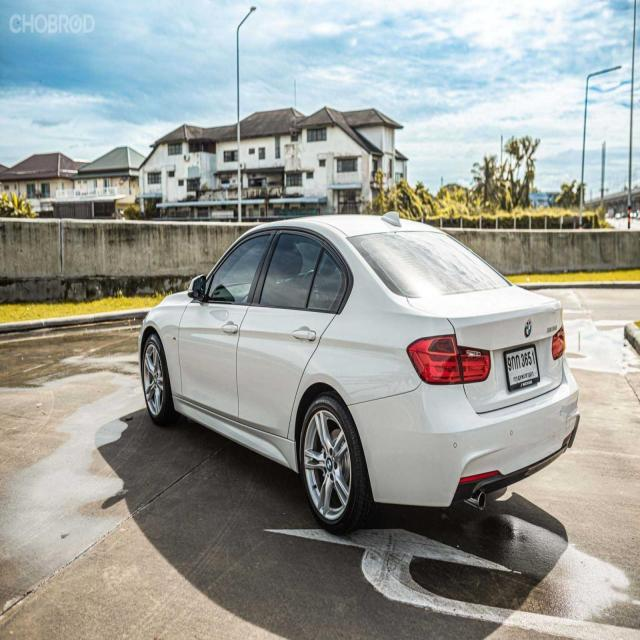license_plate: (502, 340, 544, 396)
